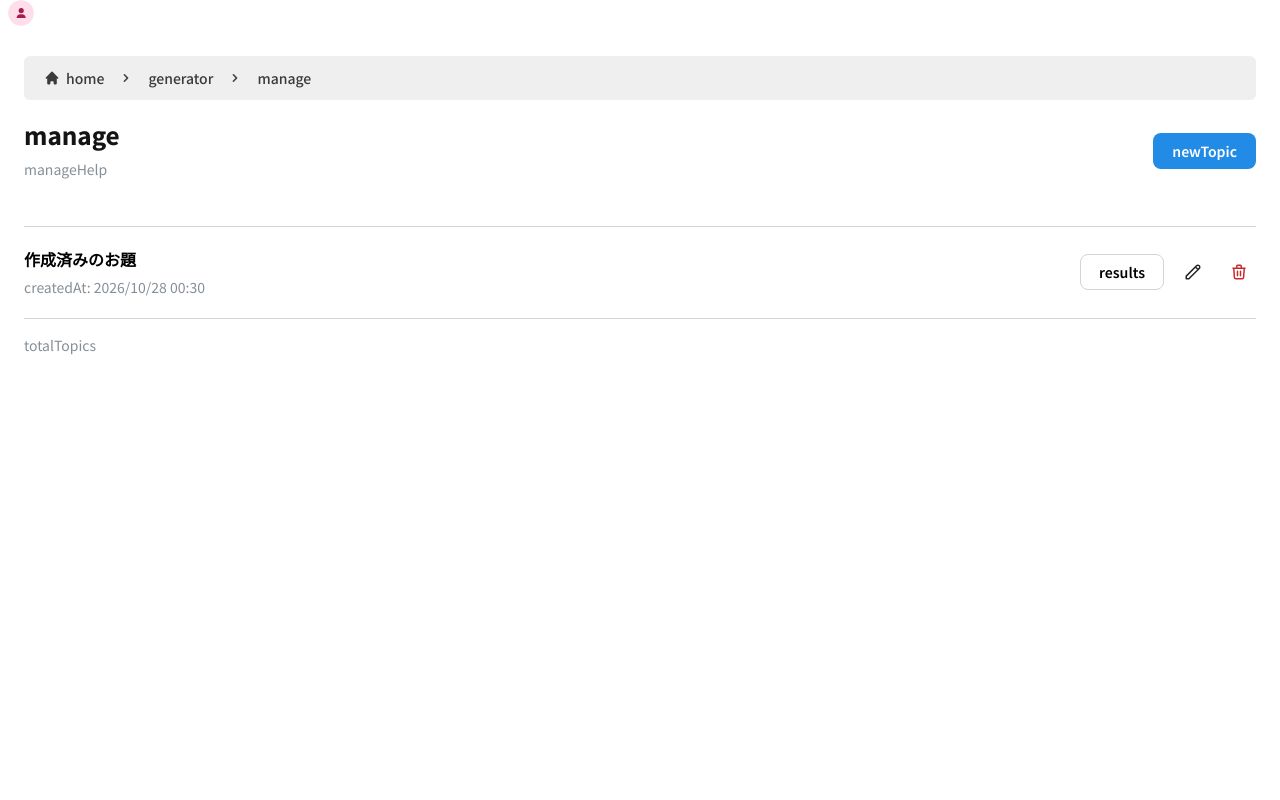
Test: 作成したお題・集計の専用ページ › 確認して削除すると一覧から消え、通知する
Expected: the heading "作成済みのお題" is shown, [24,247,136,271]
Click the button named "delete" at (1239, 272), box [1222,255,1256,289]
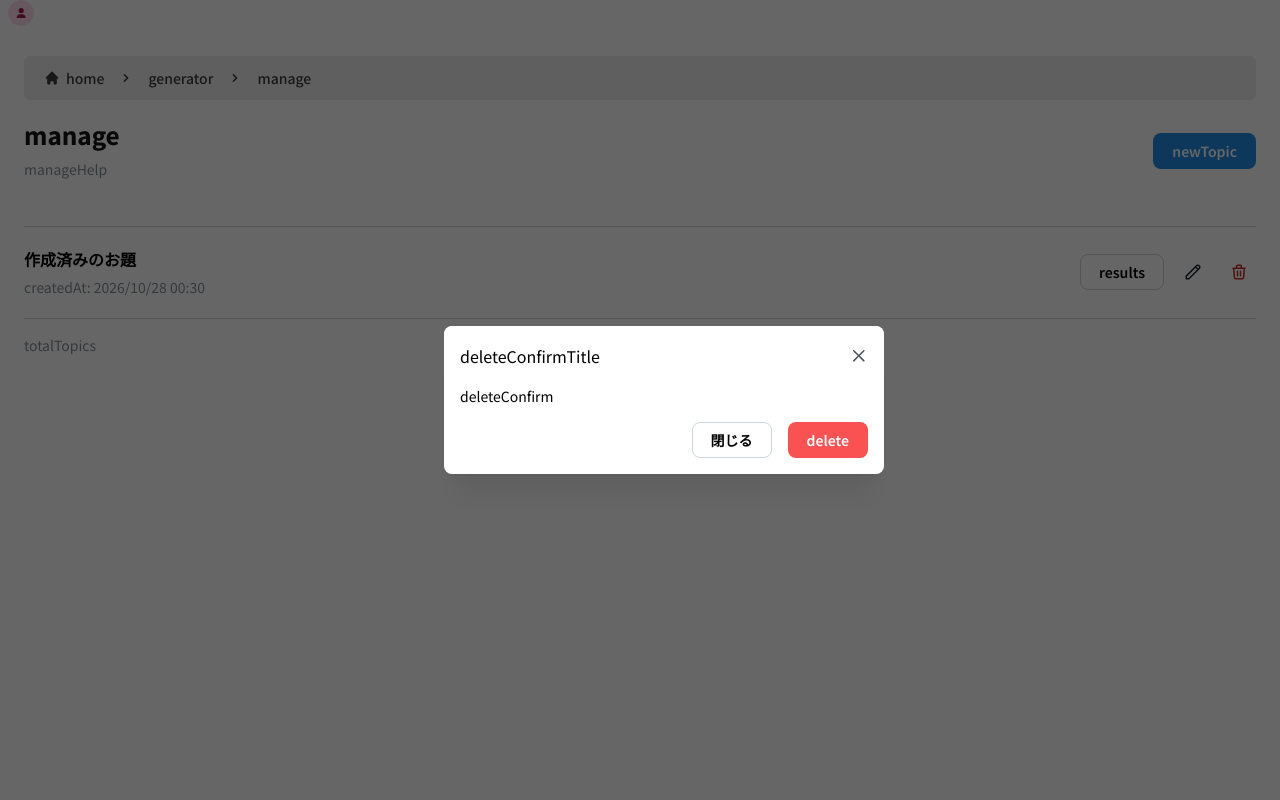
Click the button "delete" at (828, 440), box [788,422,868,458]
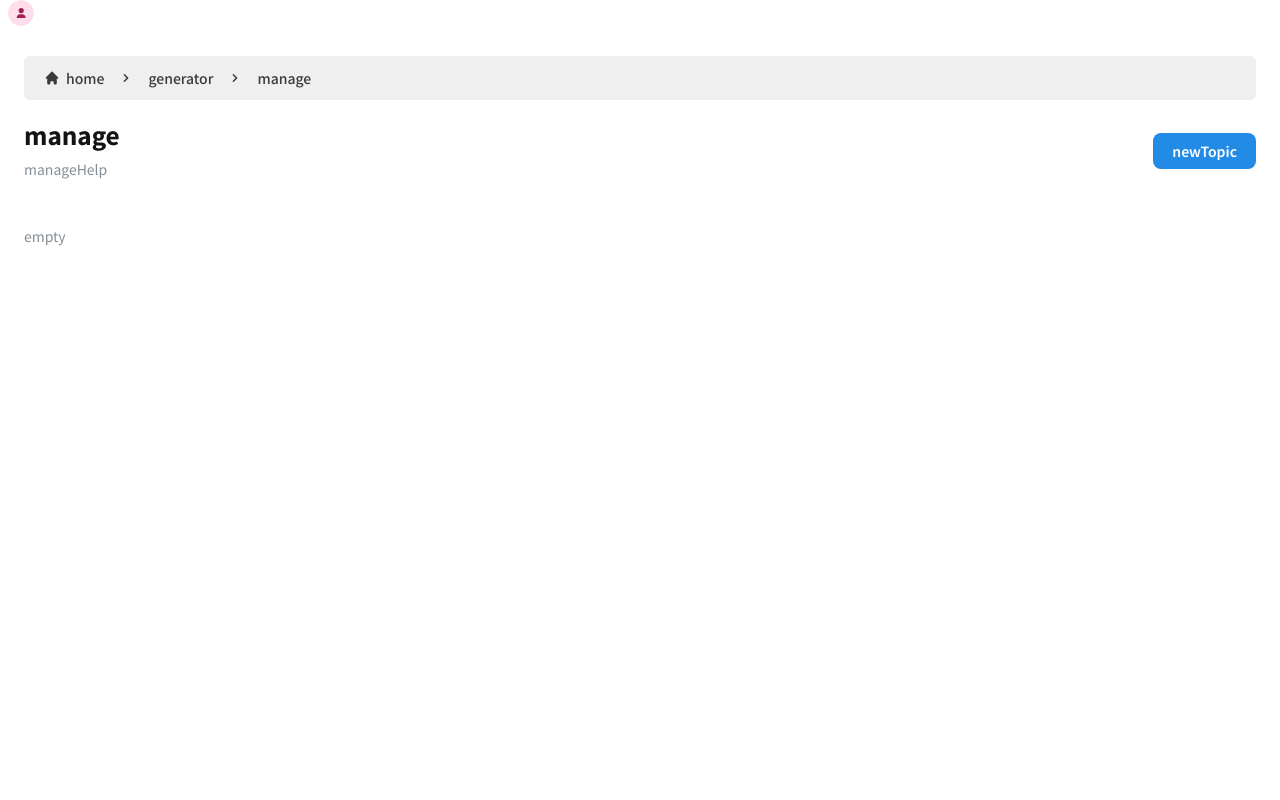
Now the link "作成済みのお題" is gone
Now the text "empty" is shown, box [24,226,66,246]
